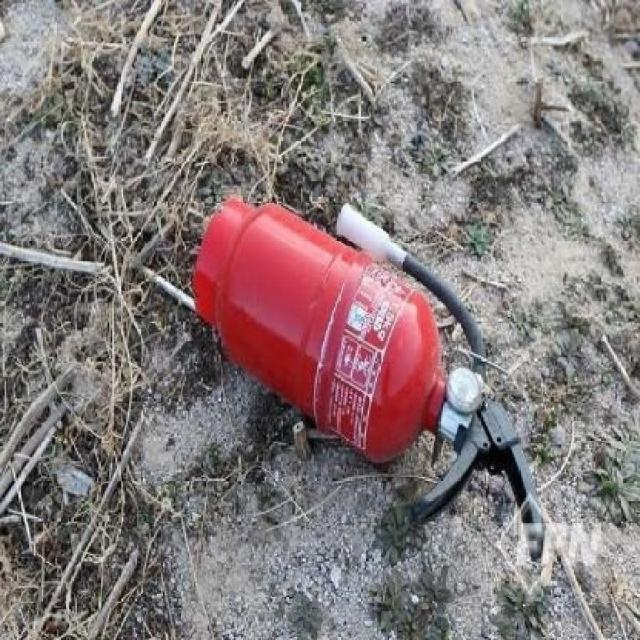fire extinguisher: (192, 196, 545, 561)
